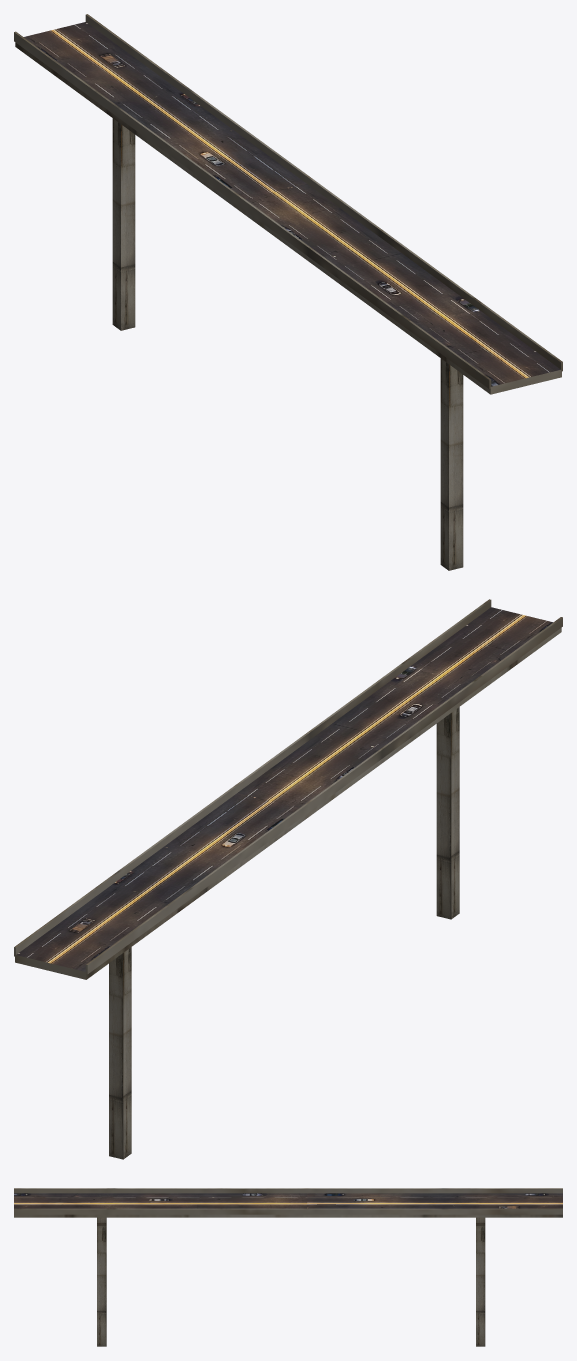
File: CP_Background_Road_200m_01.fbx
The picture shows the model from 3 angles, top to bottom: view 1: azimuth 30°, elevation 25°; view 2: azimuth 150°, elevation 25°; view 3: azimuth 270°, elevation 25°; orthographic projection. The views are drawn at different scales.
Visible parts, largest first — view 1: CP_Background_Road_200m_01; view 2: CP_Background_Road_200m_01; view 3: CP_Background_Road_200m_01.
Boxes of the visible parts, x1,y1,x2,y2 form: CP_Background_Road_200m_01: [14, 14, 562, 570]; CP_Background_Road_200m_01: [14, 599, 562, 1159]; CP_Background_Road_200m_01: [14, 1188, 562, 1346].
Bounding box in the file's own units: 1792 × 5834 × 20000.
